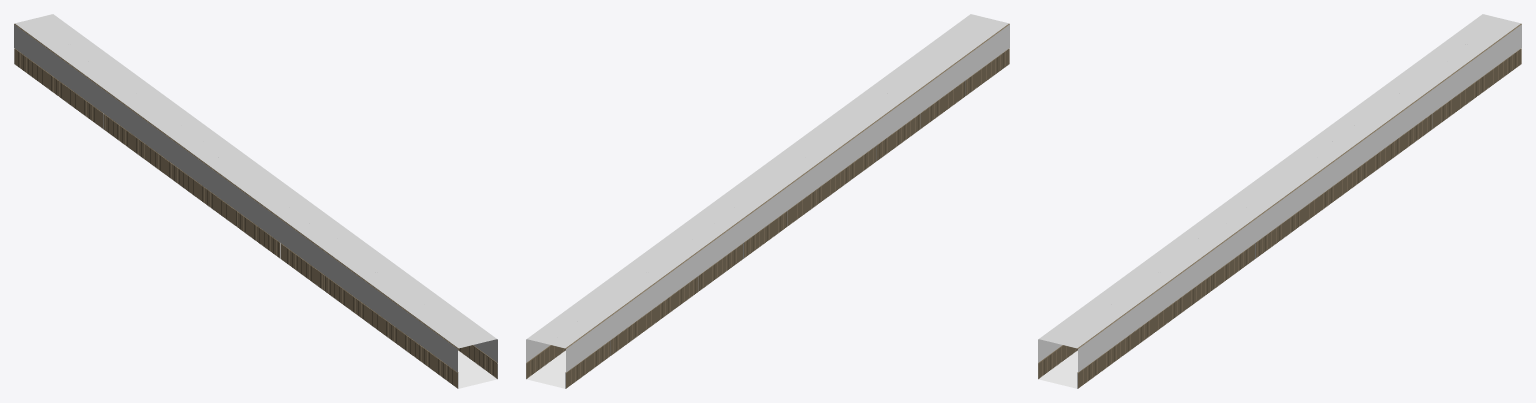
The model's file is CORRIDOR.glb.
3 views of the same model, side by side, from view 1: azimuth 30°, elevation 25°; view 2: azimuth 150°, elevation 25°; view 3: azimuth 330°, elevation 25° (orthographic).
Visible parts, largest first — view 1: Plane.001, Plane, Circle.001; view 2: Plane.001, Plane, Circle.001; view 3: Plane.001, Plane, Circle.001.
Boxes of the visible parts, x1,y1,x2,y2 form: Plane.001: (14, 14, 497, 388); Plane: (40, 83, 496, 388); Circle.001: (40, 25, 471, 337); Plane.001: (526, 14, 1009, 388); Plane: (527, 83, 983, 388); Circle.001: (552, 25, 983, 337); Plane.001: (1038, 14, 1521, 388); Plane: (1039, 83, 1495, 388); Circle.001: (1064, 25, 1495, 337).
Size of the model in its own units: 3.1 by 3 by 59.86.
